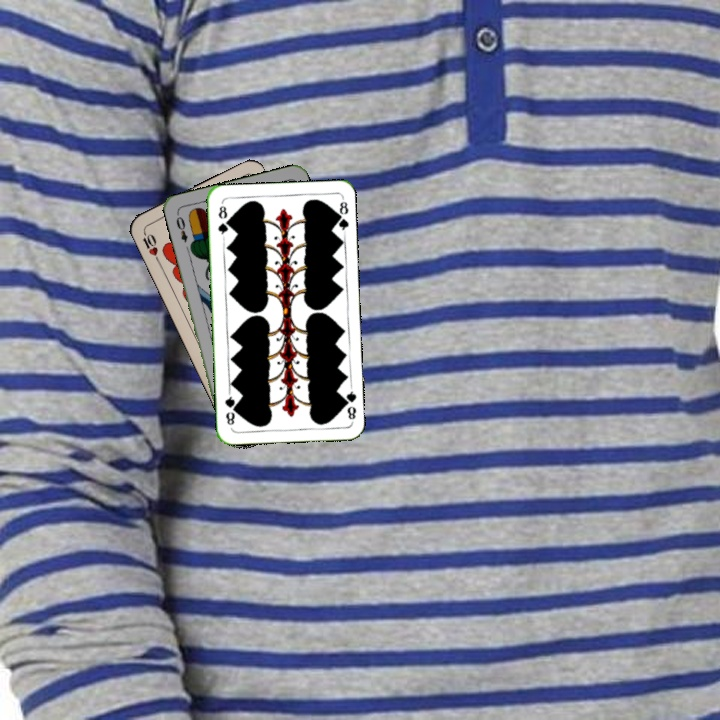EO: (172, 209, 190, 245)
G8: (339, 383, 359, 424), (214, 202, 231, 240)
H10: (138, 226, 162, 264)
